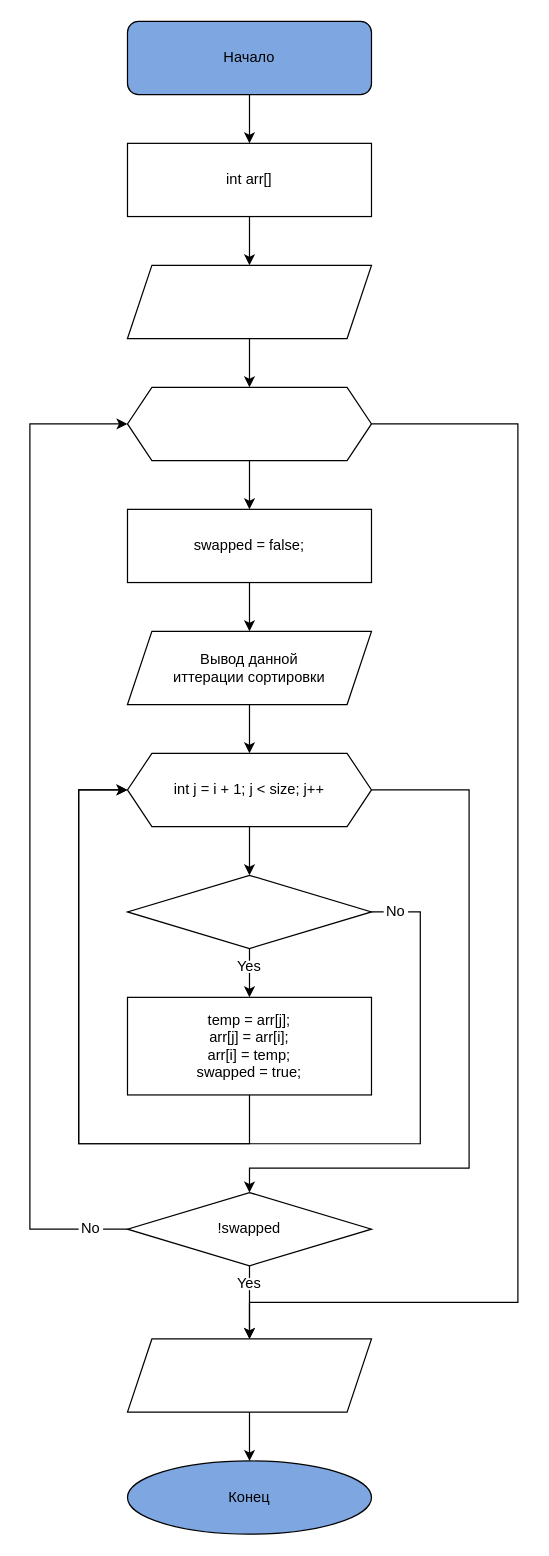
Some shapes in this 549 by 1556 pixel diagram are drawn without their labels. Each missing label, with the centre of its shape:
"arr[j] < arr[i]" belongs at (248,911).
"int i = 0; i < size - 1; i++" belongs at (248,423).
"Вывод исходного массива" belongs at (248,301).
"Вывод отсортированного массива" belongs at (248,1375).
